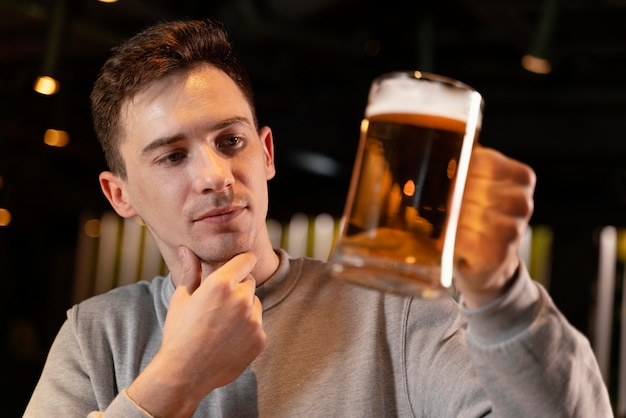alcohol: (320, 68, 486, 301)
